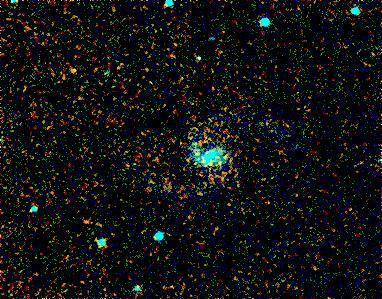star: (54, 56, 84, 86)
